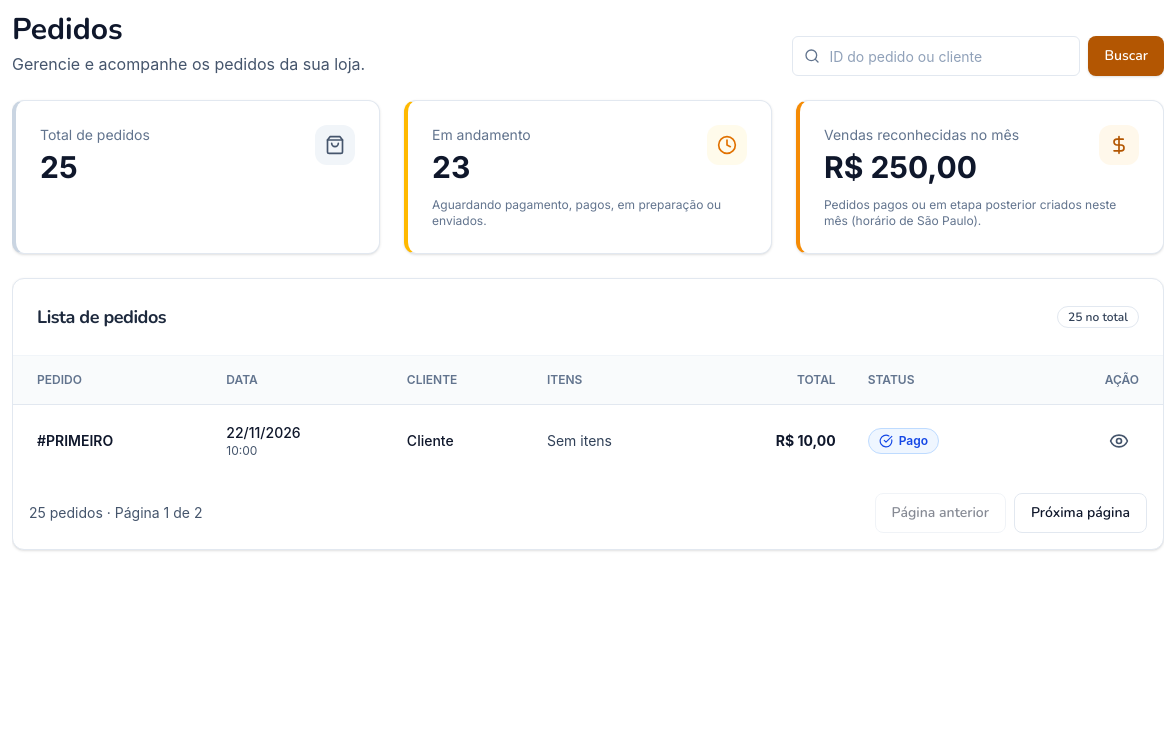
it: Parceiro usa agregado global e pesquisa no servidor voltando à primeira página
Expected: the text "25 pedidos · Página 1 de 2" is shown, [29, 502, 202, 522]
Expected: the text "23" is shown, [432, 149, 470, 185]
Step 1. Click the button "Próxima página" → click(1080, 512), box [1014, 492, 1147, 532]
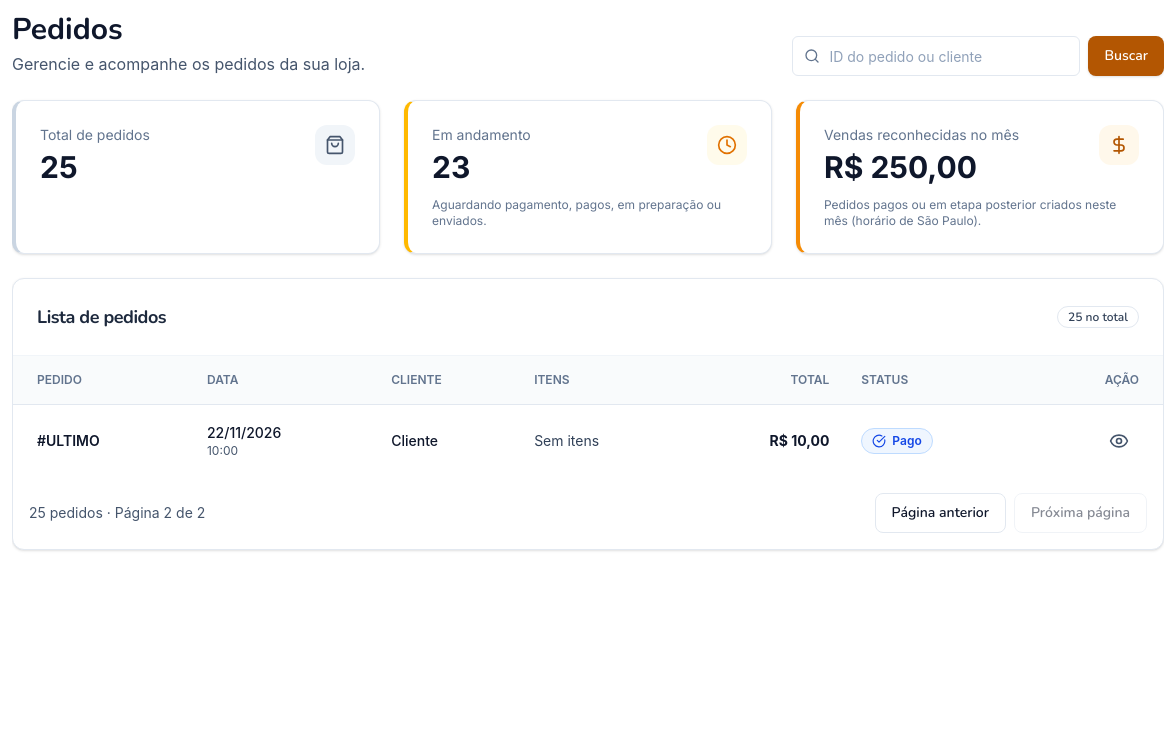
Now the text "25 pedidos · Página 2 de 2" is shown, box [29, 502, 205, 522]
Step 2. Type "Cliente" into the search field named "Buscar pedidos" → (936, 56), box [792, 36, 1080, 76]
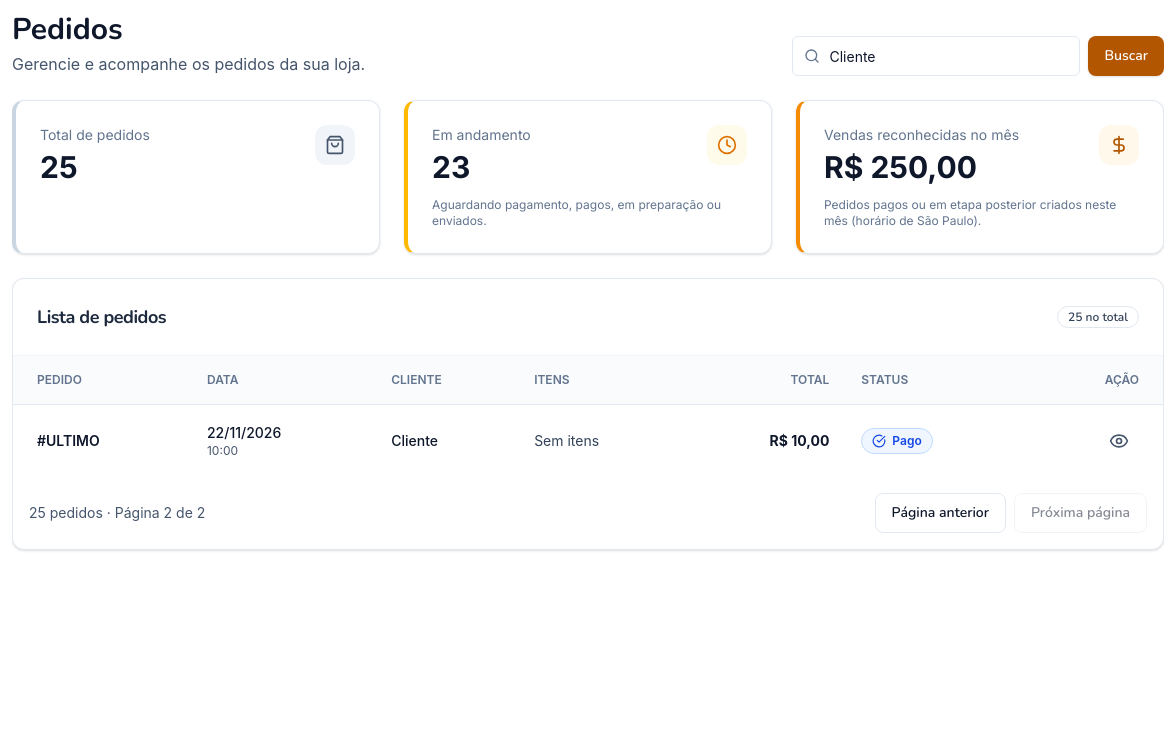
Step 3. Click the button "Buscar" → click(1126, 56), box [1088, 36, 1164, 76]
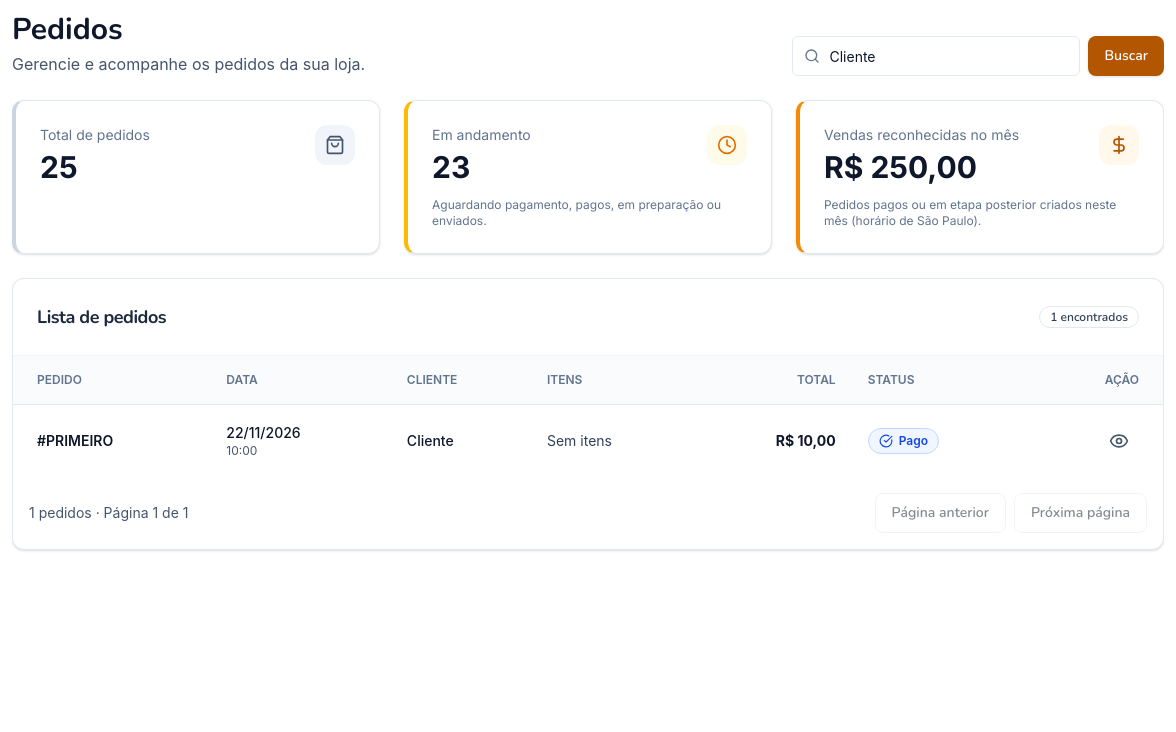
Expected: the text "23" is shown, [432, 149, 470, 185]
Now the text "1 pedidos · Página 1 de 1" is shown, box [29, 502, 188, 522]
